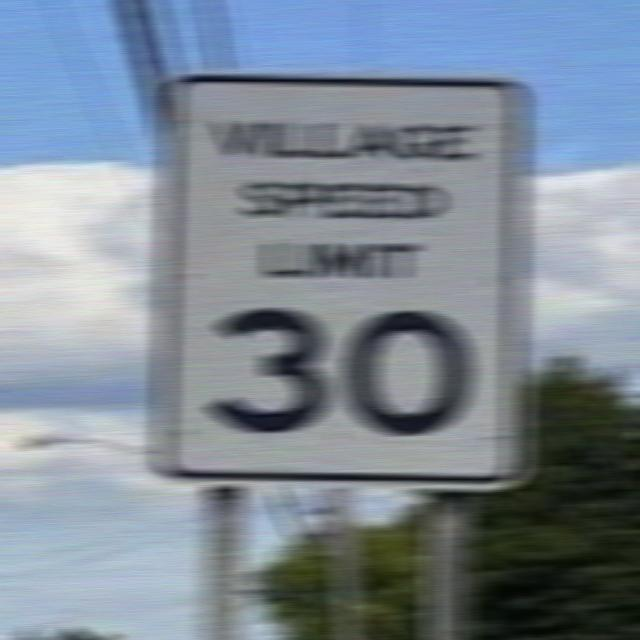speedLimit30: (165, 86, 518, 475)
